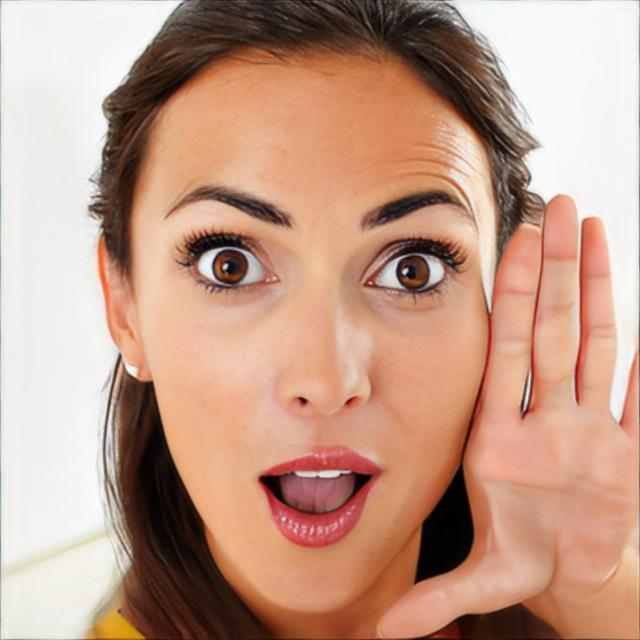surprise: (131, 39, 497, 615)
